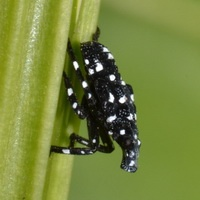insect: (50, 28, 140, 171)
